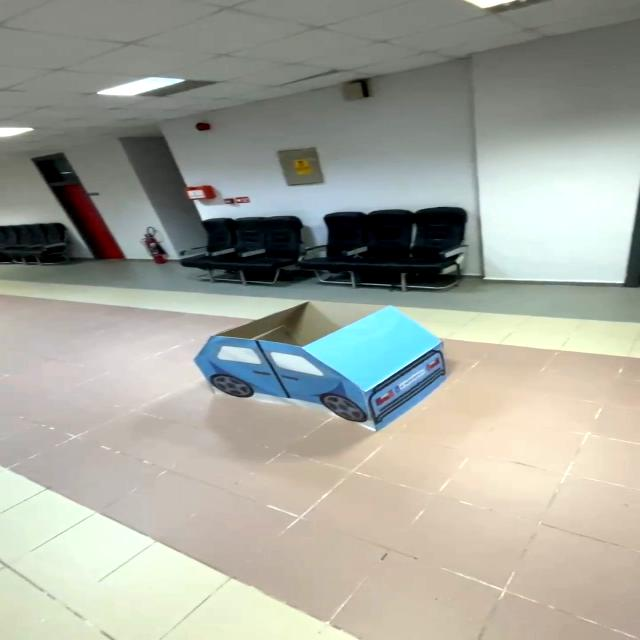blue_car: (180, 294, 460, 444)
